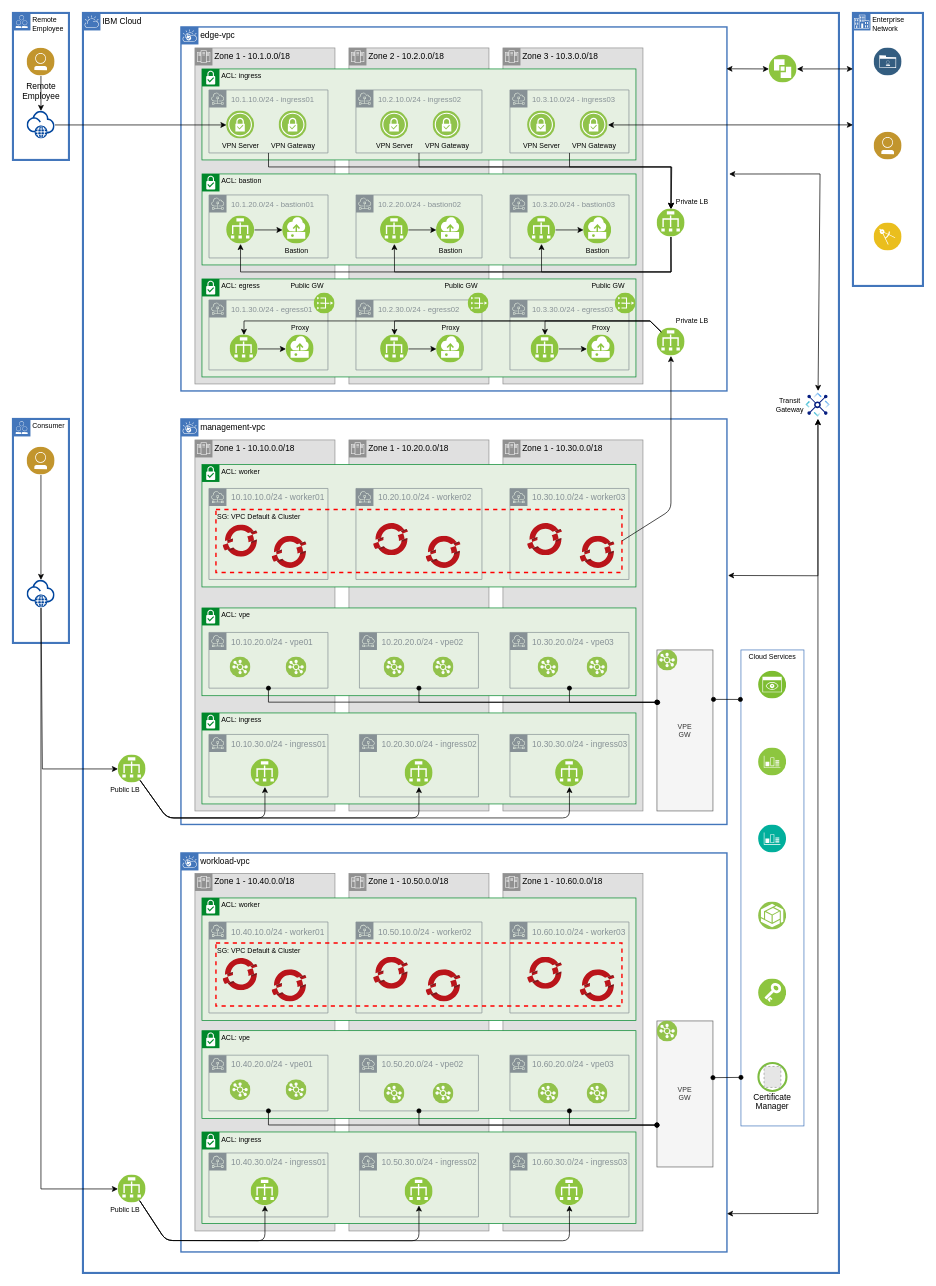
Some shapes in this 936 by 1286 pixel diagram are drawn without their labels. Grey dashed boxes stand in for pictures. The shapes that lost their labels are listed below. From the top down, each one's centre as x and y in pixels, then its label:
At point (783, 69): "Direct Link".
At point (888, 62): "Enterprise Directory".
At point (888, 146): "Enterprise User".
At point (888, 237): "Enterprise Application".
At point (41, 461): "Users".
At point (41, 594): "Internet".
At point (772, 685): "Monitoring".
At point (772, 762): "Logging".
At point (772, 839): "Activity Tracker".
At point (772, 916): "Object Storage".
At point (772, 993): "Key Management".
